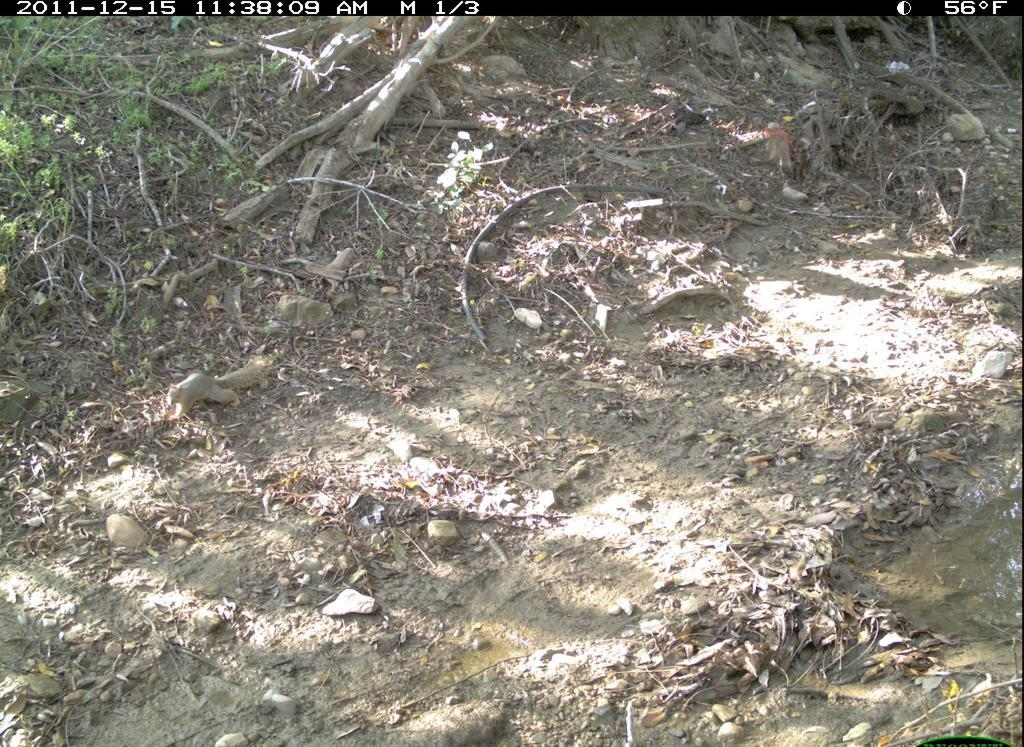squirrel: (158, 353, 275, 427)
